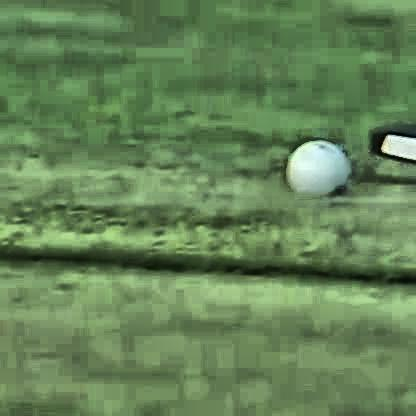golfball: (282, 140, 345, 197)
